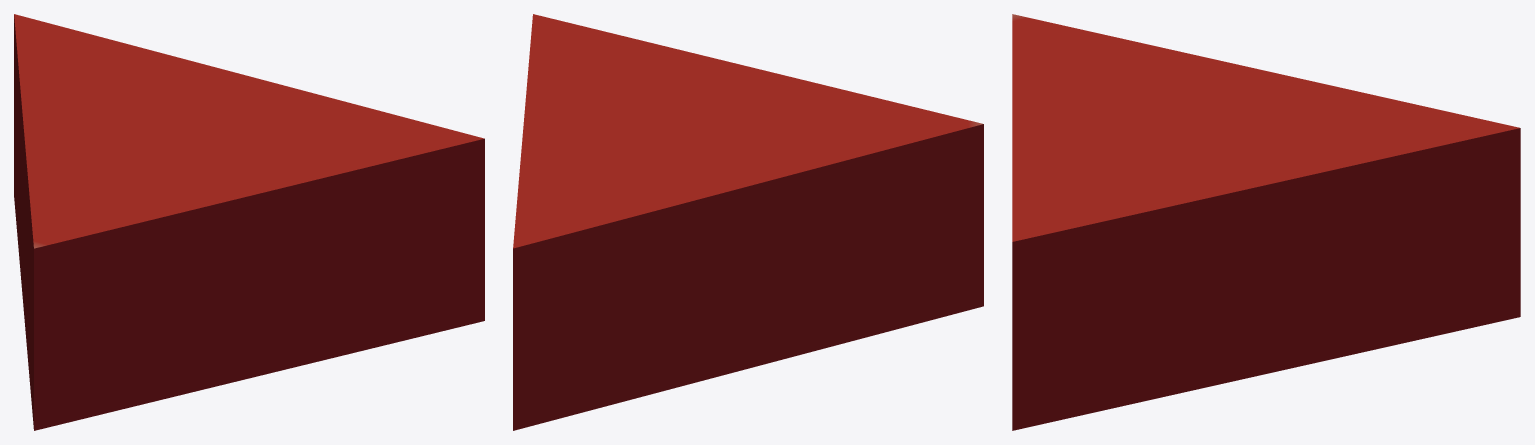
Rendered from Triangle.fbx.
The picture shows the model from 3 angles, left to right: view 1: azimuth 30°, elevation 25°; view 2: azimuth 150°, elevation 25°; view 3: azimuth 270°, elevation 25°; orthographic projection. The views are drawn at different scales.
Parts seen in each view (by area): view 1: Triangle; view 2: Triangle; view 3: Triangle.
Part boxes in pixels (box(x1,y1,x2,y2)): Triangle: box(14, 14, 484, 430); Triangle: box(513, 14, 983, 430); Triangle: box(1012, 14, 1520, 430).
Bounding box in the file's own units: 50.64 × 19.57 × 47.74.
Materials: 1 (1 with a texture image).
